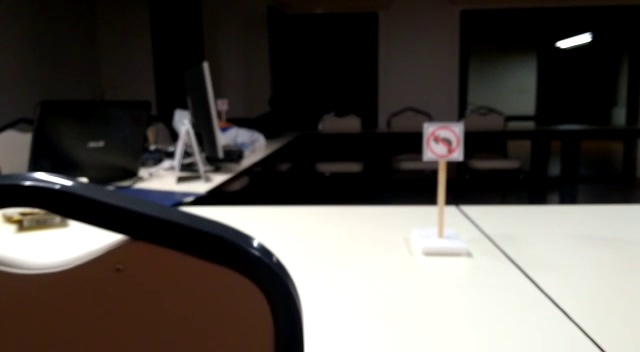sola_donulmez: (424, 123, 462, 160)
